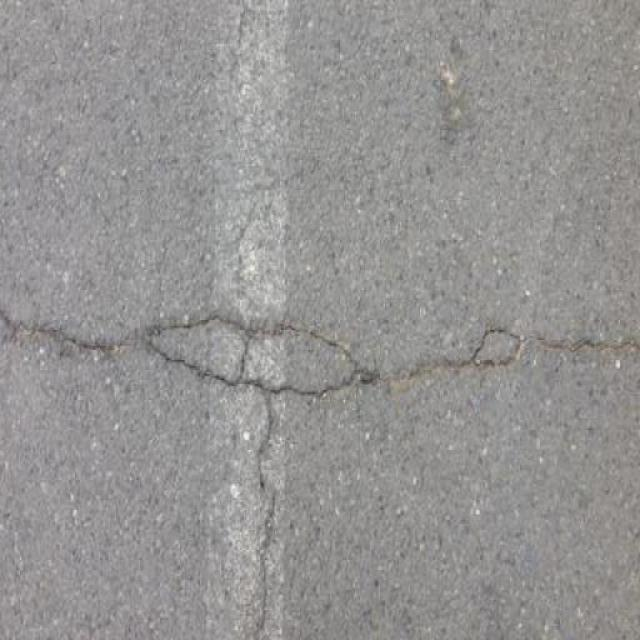Crack: (4, 286, 638, 408), (241, 390, 291, 638)
